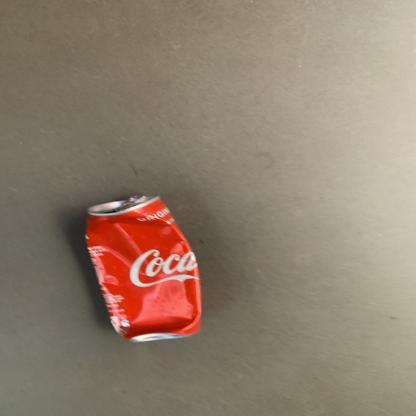trash: (75, 193, 208, 346)
